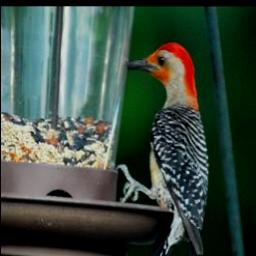Woodpecker: (117, 41, 212, 256)
